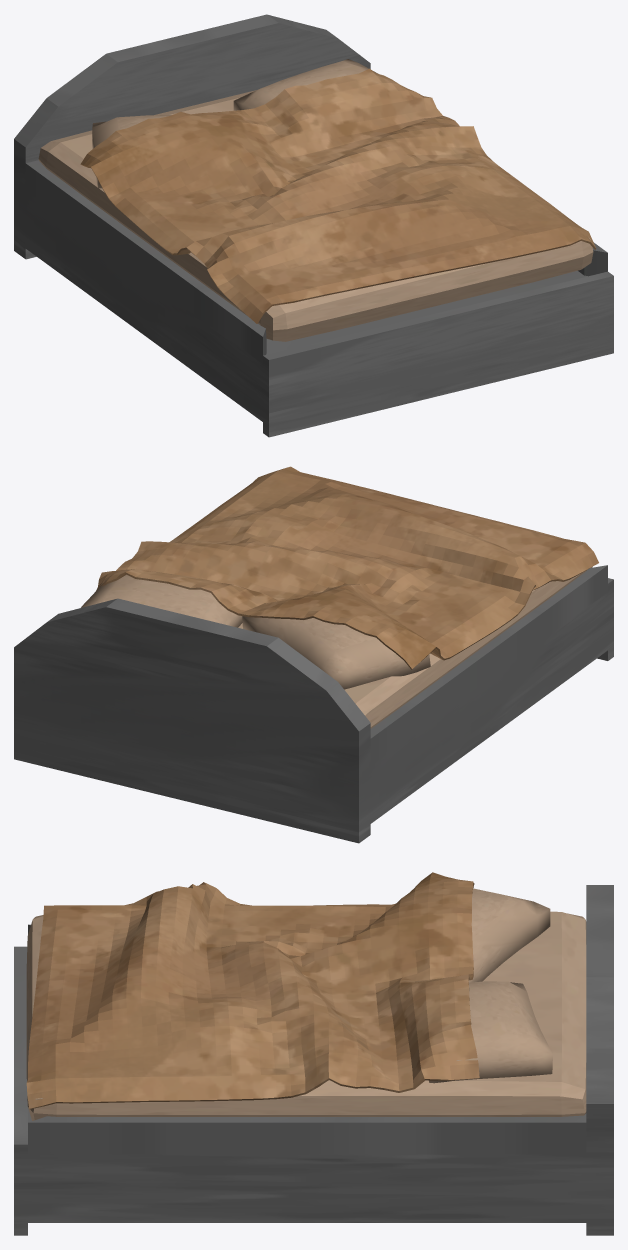
File: bed.fbx
3 renders of one model, top to bottom at view 1: azimuth 30°, elevation 25°; view 2: azimuth 150°, elevation 25°; view 3: azimuth 270°, elevation 25°, orthographic. The views are drawn at different scales.
Parts seen in each view (by area): view 1: Plane.012, Plane.005, Plane.011, Plane.013, Plane.014; view 2: Plane.012, Plane.005, Plane.014, Plane.011, Plane.013; view 3: Plane.005, Plane.012, Plane.011, Plane.013, Plane.014.
Boxes of the visible parts, x1=… form: Plane.012: x1=14, y1=14, x2=613, y2=437; Plane.005: x1=80, y1=68, x2=596, y2=323; Plane.011: x1=38, y1=90, x2=593, y2=341; Plane.013: x1=233, y1=59, x2=378, y2=110; Plane.014: x1=92, y1=115, x2=171, y2=188; Plane.012: x1=14, y1=565, x2=613, y2=843; Plane.005: x1=96, y1=466, x2=598, y2=669; Plane.014: x1=242, y1=616, x2=430, y2=689; Plane.011: x1=238, y1=567, x2=592, y2=728; Plane.013: x1=81, y1=574, x2=242, y2=627; Plane.005: x1=26, y1=872, x2=479, y2=1109; Plane.012: x1=14, y1=885, x2=613, y2=1235; Plane.011: x1=26, y1=911, x2=586, y2=1120; Plane.013: x1=428, y1=981, x2=552, y2=1083; Plane.014: x1=468, y1=888, x2=550, y2=982.
Size of the model in its own units: 5.18 by 2.49 by 6.6.
